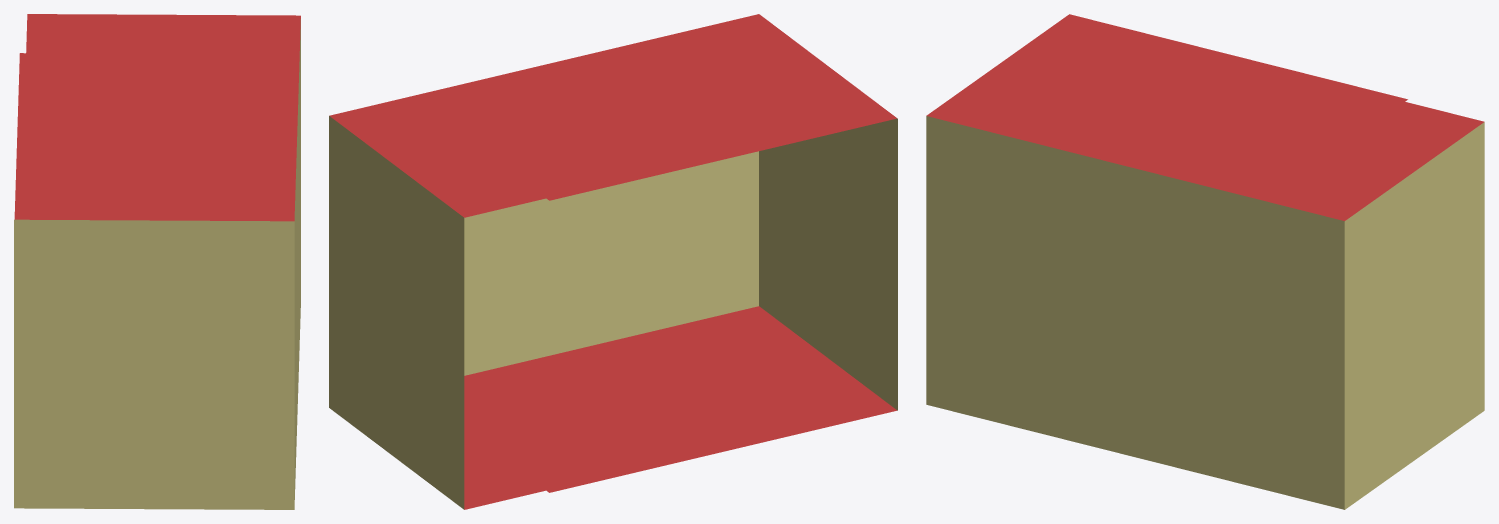
3 views of the same model, side by side, from view 1: azimuth 30°, elevation 25°; view 2: azimuth 150°, elevation 25°; view 3: azimuth 270°, elevation 25° (orthographic).
Bounding box in the file's own units: 9.66 × 11 × 6.28.
